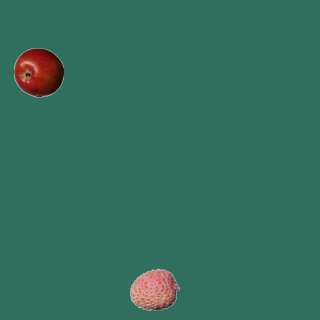Apple Braeburn: (13, 47, 63, 97)
Lychee: (129, 264, 179, 314)
